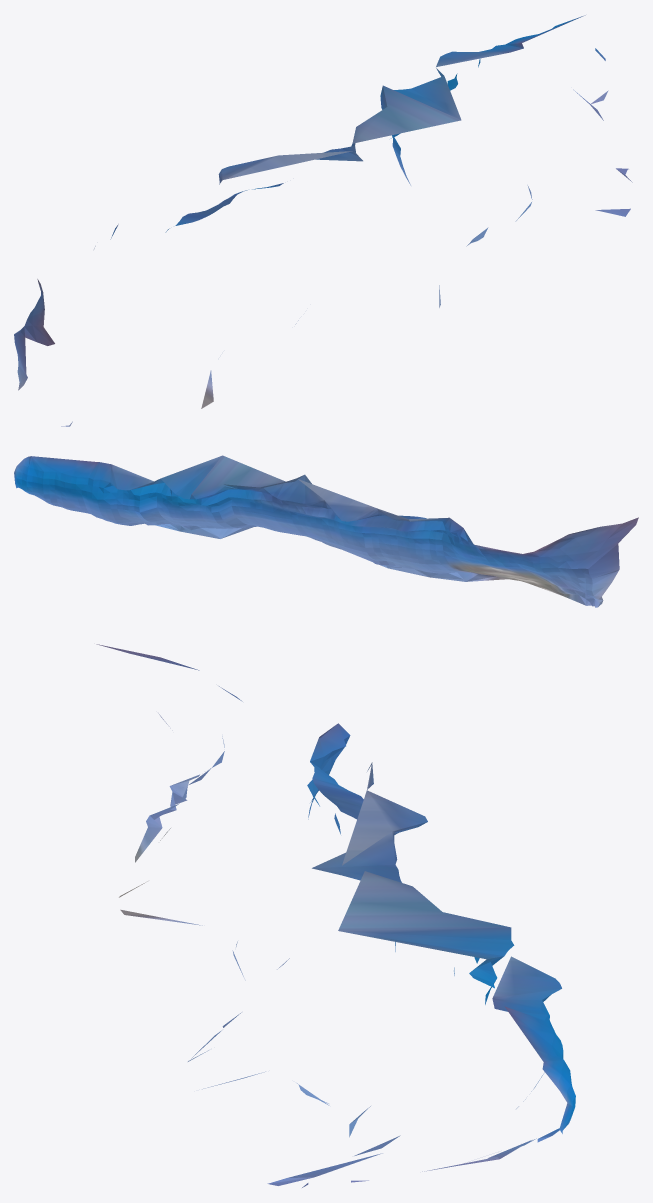
The model's file is observed-surface.glb.
3 views of the same model, one above another, from view 1: azimuth 30°, elevation 25°; view 2: azimuth 150°, elevation 25°; view 3: azimuth 270°, elevation 25° (orthographic). The views are drawn at different scales.
Visible parts, largest first — view 1: geometry_0; view 2: geometry_0; view 3: geometry_0.
Part boxes in pixels (left/top/right/bottom): geometry_0: left=14, top=15, right=632, bottom=426; geometry_0: left=14, top=455, right=638, bottom=607; geometry_0: left=96, top=644, right=575, bottom=1187.
Size of the model in its own units: 0.6607 by 0.1386 by 0.2828.
Materials: 1 (1 with a texture image).
